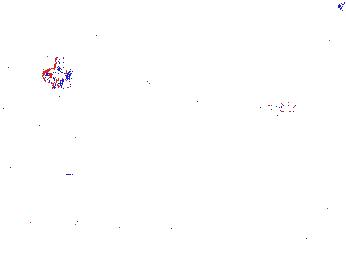glassfish: (203, 141, 308, 211)
red belly glassfish: (252, 93, 301, 118), (41, 65, 71, 88)
